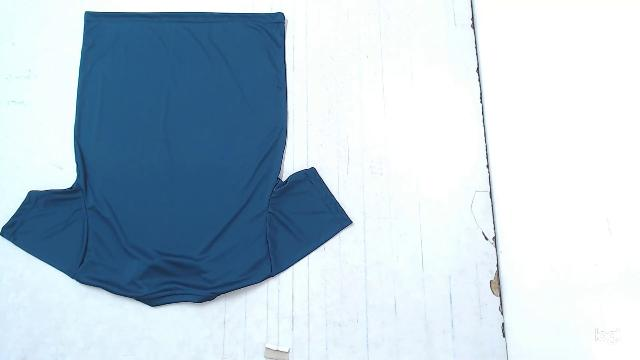new-garment: (0, 12, 351, 306)
